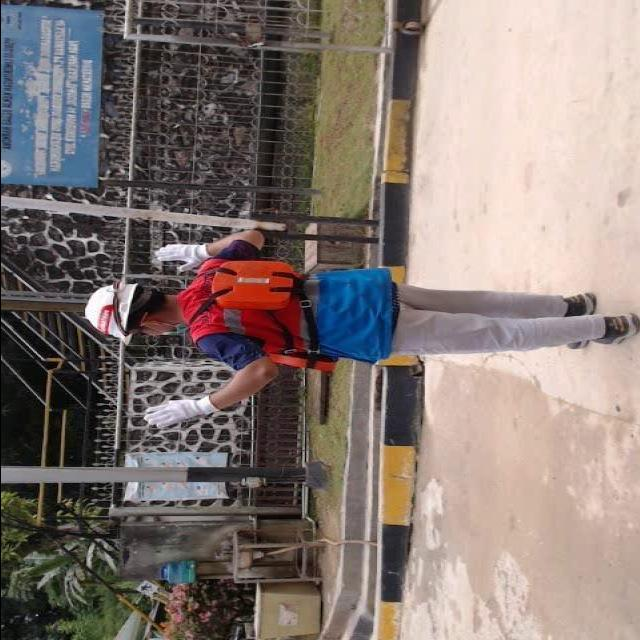helmet: (70, 268, 138, 348)
jacket: (175, 252, 348, 378)
